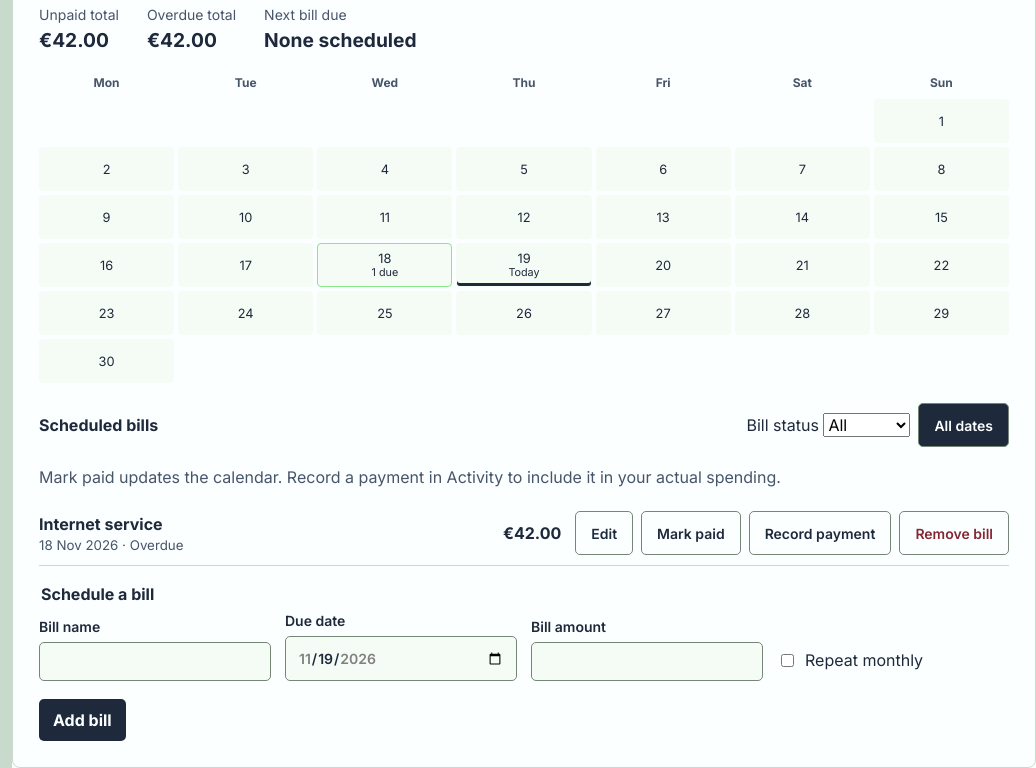
Scenario: opens a scheduled payment in Activity and records it only after Add entry
The image size is (1036, 768).
(page scrolled)
Click the button "Record payment" at (820, 533), box [749,511,891,555]
(page scrolled)
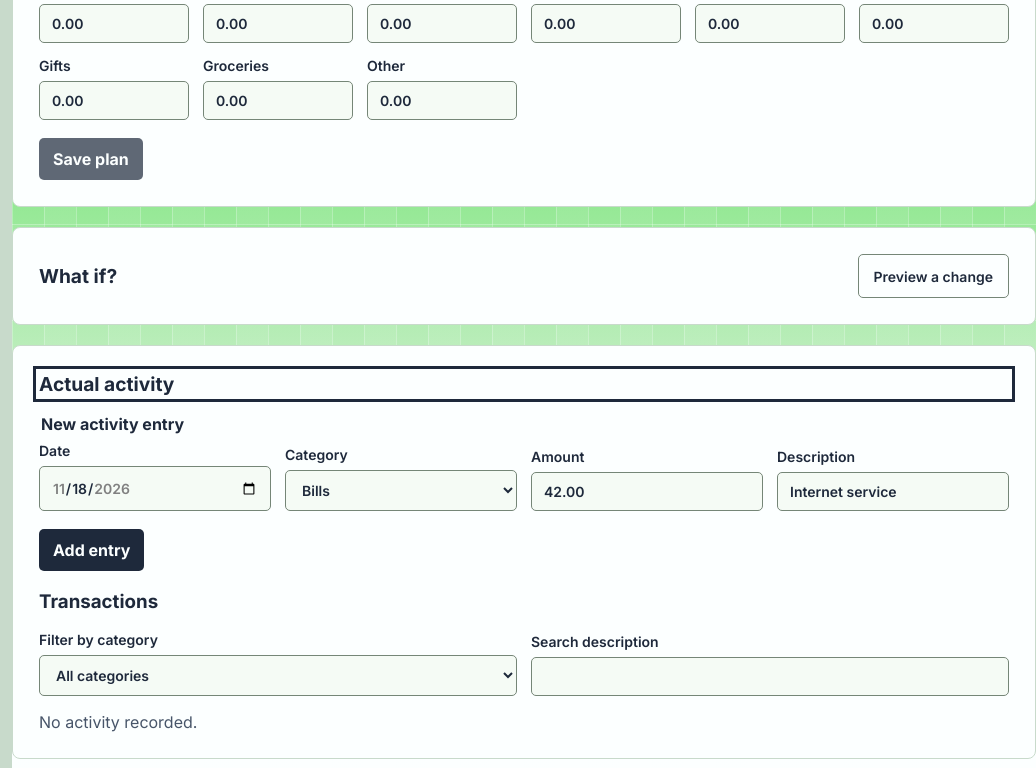
Expected: the date field labelled "Date" holds "2026-11-18", [39,466,271,511]
Expected: the field labelled "Amount" holds "42.00", [531,472,763,511]
Expected: the dropdown labelled "Category" shows "Bills", [285,470,517,511]
Click the button "Add entry" at (92, 550), box [39,529,144,571]
(page scrolled)
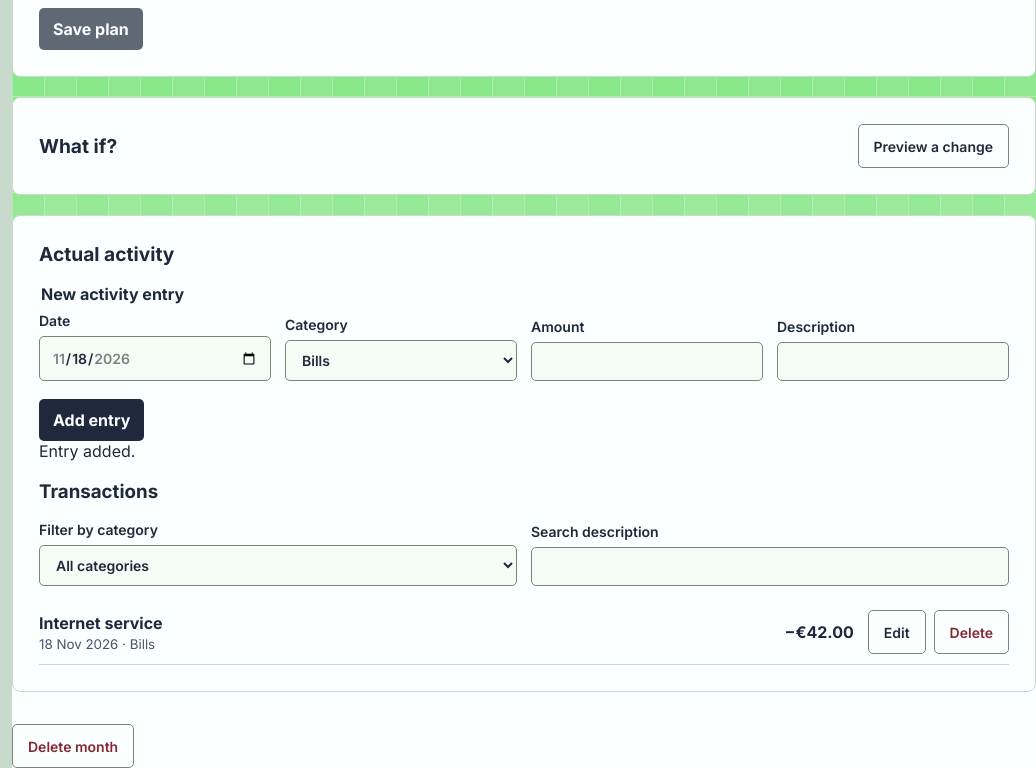
Expected: the text "−€42.00" is shown, [785,622,854,642]
